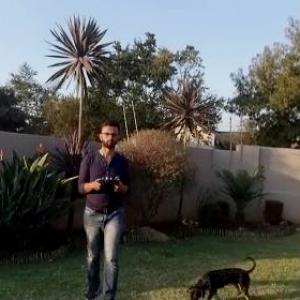follow: (74, 110, 131, 299)
null: (186, 254, 258, 299)
